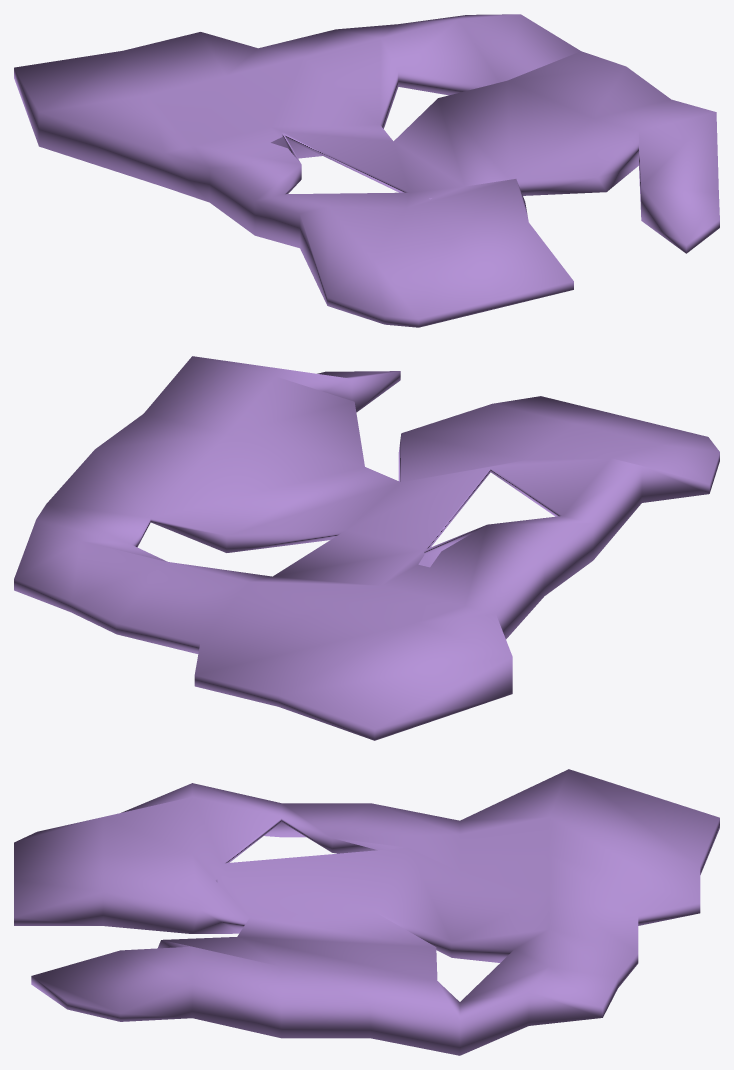
Rendered from ScrapCloth5.fbx.
The picture shows the model from 3 angles, top to bottom: view 1: azimuth 30°, elevation 25°; view 2: azimuth 150°, elevation 25°; view 3: azimuth 270°, elevation 25°; orthographic projection. The views are drawn at different scales.
Parts seen in each view (by area): view 1: Cube; view 2: Cube; view 3: Cube.
Boxes of the visible parts, x1,y1,x2,y2 form: Cube: (14, 14, 719, 327); Cube: (14, 356, 719, 740); Cube: (14, 769, 719, 1055).
Size of the model in its own units: 242 by 35 by 307.
